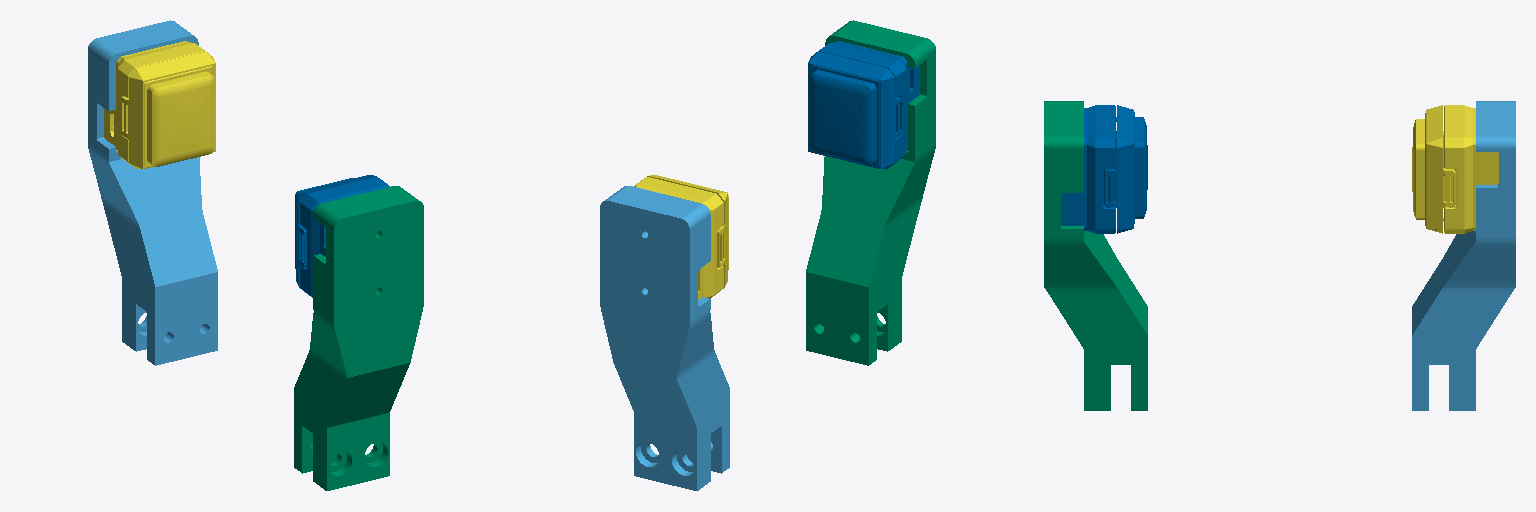
The robot description file, URDF, robot "hand":
<?xml version="1.0" ?>
<robot name="hand">
  <link name="panda_hand">
    <visual>
      <geometry>
        <mesh filename="../meshes/visual/hand.dae"/>
      </geometry>
    </visual>
    <collision>
      <geometry>
        <mesh filename="../meshes/collision/hand.stl"/>
      </geometry>
    </collision>
    <inertial>
      <origin rpy="0 0 0" xyz="0 0.0015244 0.0275912"/>
      <mass value="0.73"/>
      <inertia ixx="0.00278560230025" ixy="0.0" ixz="0.0" iyy="0.000400033405336" iyz="0.0" izz="0.00256378041832"/>
    </inertial>
  </link>
  <link name="panda_left_adapt_finger">
    <visual>
      <origin rpy="-1.570796327 0 0" xyz="-0.015 0 0"/>
      <geometry>
        <mesh filename="../meshes/collision/finger_gsmini_adapter.stl"/>
      </geometry>
    </visual>
    <collision>
      <origin rpy="-1.570796327 0 0" xyz="-0.015 0 0"/>
      <geometry>
        <mesh filename="../meshes/collision/finger_gsmini_adapter.stl"/>
      </geometry>
    </collision>
  </link>
  <link name="panda_right_adapt_finger">
    <visual>
      <origin rpy="-1.570796327 0 3.141592653589793" xyz="0.015 0 0"/>
      <geometry>
        <mesh filename="../meshes/collision/finger_gsmini_adapter.stl"/>
      </geometry>
    </visual>
    <collision>
      <origin rpy="-1.570796327 0 3.141592653589793" xyz="0.015 0 0"/>
      <geometry>
        <mesh filename="../meshes/collision/finger_gsmini_adapter.stl"/>
      </geometry>
    </collision>
  </link>
  <link concave="yes" name="gsmini_left">
    <visual>
      <origin rpy="-1.570796327 -1.570796327 0" xyz="0 0 0"/>
      <geometry>
        <mesh filename="../meshes/collision/gsmini.stl"/>
      </geometry>
    </visual>
    <collision concave="yes">
      <origin rpy="-1.570796327 -1.570796327 0" xyz="0 0 0"/>
      <geometry>
        <mesh filename="../meshes/collision/gsmini.stl"/>
      </geometry>
    </collision>
  </link>
  <link concave="yes" name="gsmini_right">
    <visual>
      <origin rpy="1.570796327 1.570796327 0" xyz="0 0 0"/>
      <geometry>
        <mesh filename="../meshes/collision/gsmini.stl"/>
      </geometry>
    </visual>
    <collision concave="yes">
      <origin rpy="1.570796327 1.570796327 0" xyz="0 0 0"/>
      <geometry>
        <mesh filename="../meshes/collision/gsmini.stl"/>
      </geometry>
    </collision>
  </link>
  
  <joint name="panda_finger_joint_left" type="prismatic">
    <parent link="panda_hand"/>
    <child link="panda_left_adapt_finger"/>
    <!-- <origin rpy="0 0 0" xyz="-0.0149 (0.0064 - 0.0063) (0.0962 + 0.0584)"/> -->
    <origin rpy="0 0 0" xyz="0 0.04 0.1546"/>
    <axis xyz="0 -1 0"/>
    <limit effort="70" lower="0.0" upper="0.04" velocity="0.2"/>
    <dynamics damping="500.0" friction="100"/>
  </joint>
  <joint name="panda_finger_joint_right" type="prismatic">
    <parent link="panda_hand"/>
    <child link="panda_right_adapt_finger"/>
    <origin rpy="0 0 0" xyz="0 -0.04 0.1546"/>
    <axis xyz="0 1 0"/>
    <limit effort="70" lower="0.0" upper="0.04" velocity="0.2"/>
    <dynamics damping="500.0" friction="100"/>
    <!-- <mimic joint="panda_finger_joint_left"/> -->
  </joint>
  <joint name="finger_gsmini_joint_left" type="fixed">
    <parent link="panda_left_adapt_finger"/>
    <child link="gsmini_left"/>
    <origin rpy="0 0 -1.570796327" xyz="0 0.02315 -0.01675"/>
  </joint>
  <joint name="finger_gsmini_joint_right" type="fixed">
    <parent link="panda_right_adapt_finger"/>
    <child link="gsmini_right"/>
    <origin rpy="0 0 1.570796327" xyz="0 -0.02315 -0.01675"/>
  </joint>
</robot>

--- What the picture shows (computed from the rendered views, not written in the file) ---
Views: 3 orthographic renders of the robot side by side, from view 1: azimuth 30°, elevation 25°; view 2: azimuth 150°, elevation 25°; view 3: azimuth 270°, elevation 25°.
Model hand with 5 links and 4 joints (2 prismatic, 2 fixed), rooted at panda_hand, posed every joint at zero.
Visible links, largest first — view 1: panda_right_adapt_finger, panda_left_adapt_finger, gsmini_left, gsmini_right; view 2: panda_left_adapt_finger, panda_right_adapt_finger, gsmini_right, gsmini_left; view 3: panda_left_adapt_finger, panda_right_adapt_finger, gsmini_right, gsmini_left.
Link boxes in pixels (x1=…): panda_right_adapt_finger: x1=294, y1=186, x2=423, y2=490; panda_left_adapt_finger: x1=88, y1=20, x2=217, y2=365; gsmini_left: x1=104, y1=41, x2=215, y2=168; gsmini_right: x1=295, y1=175, x2=389, y2=297; panda_left_adapt_finger: x1=600, y1=186, x2=729, y2=490; panda_right_adapt_finger: x1=806, y1=20, x2=935, y2=365; gsmini_right: x1=808, y1=41, x2=919, y2=168; gsmini_left: x1=634, y1=175, x2=728, y2=299; panda_left_adapt_finger: x1=1412, y1=101, x2=1515, y2=410; panda_right_adapt_finger: x1=1044, y1=101, x2=1147, y2=410; gsmini_right: x1=1061, y1=105, x2=1147, y2=233; gsmini_left: x1=1412, y1=105, x2=1498, y2=233.
Bounding box of the posed robot: 0.03 × 0.1423 × 0.0922 m (x, y, z).
Meshes: 3 distinct files referenced, 4 mesh visuals loaded (2 binary STL); not drawn: 1 (reference not matched to a file when rendering).